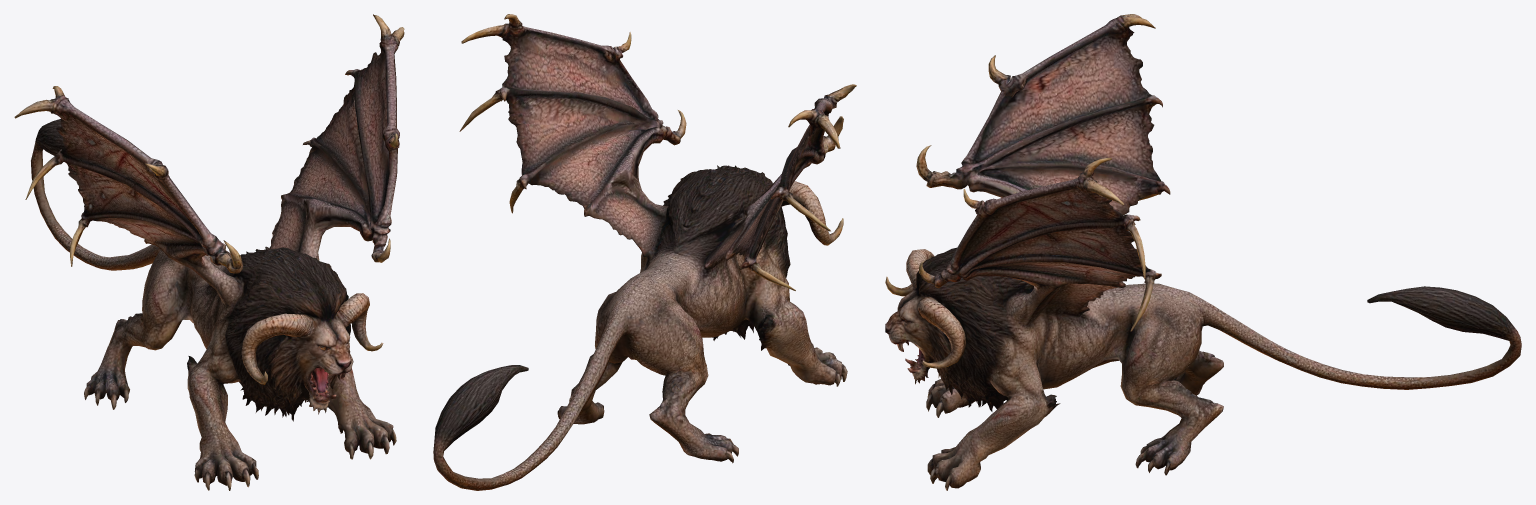
The model's file is Warrior_Character_Optimized_1K.glb.
The picture shows the model from 3 angles, left to right: view 1: azimuth 30°, elevation 25°; view 2: azimuth 150°, elevation 25°; view 3: azimuth 270°, elevation 25°; orthographic projection. The views are drawn at different scales.
Parts seen in each view (by area): view 1: Model; view 2: Model; view 3: Model.
Boxes of the visible parts, box(x1,y1,x2,y2) form: Model: box(14, 14, 404, 490); Model: box(433, 14, 856, 490); Model: box(885, 14, 1521, 490).
Bounding box in the file's own units: 0.6986 × 0.6282 × 1.
1 material, 1 textured.
